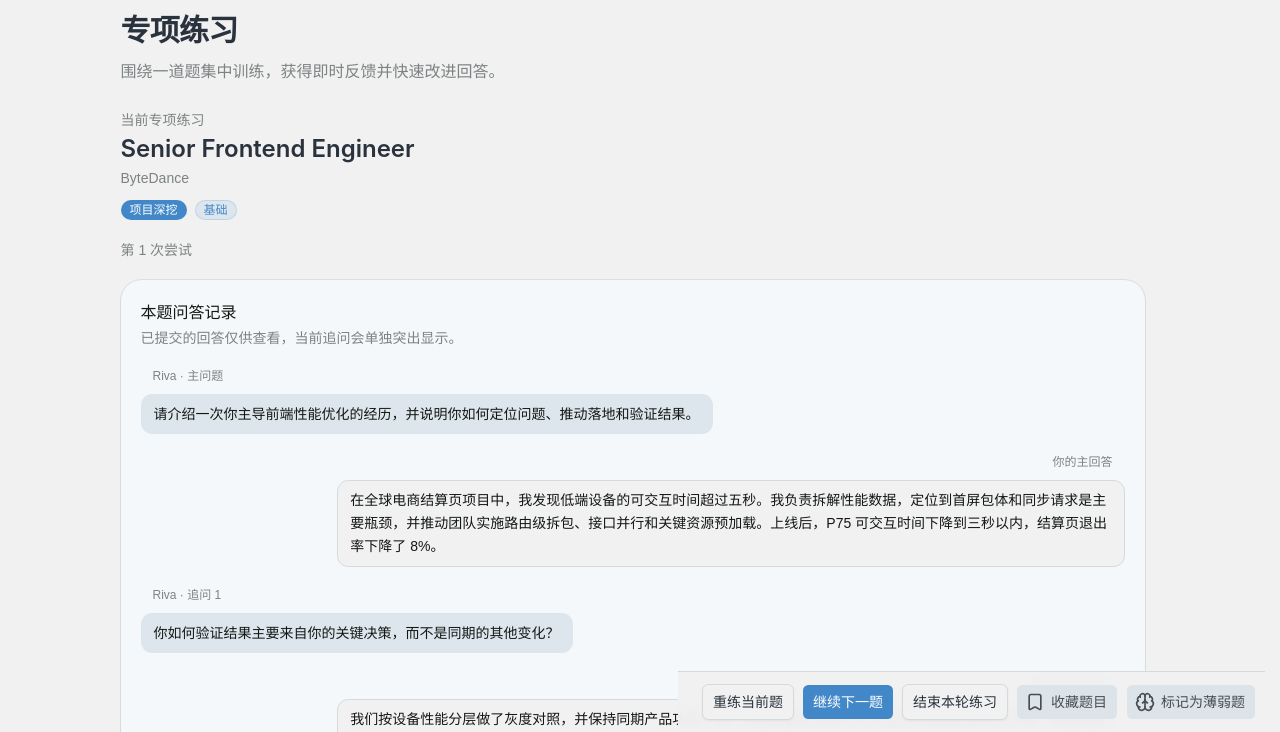
Scenario: PracticeView › shows safe review-action errors without exposing service details
Step 1. Click the button "重练当前题" → (748,702), box x1=702 y1=684 x2=794 y2=720
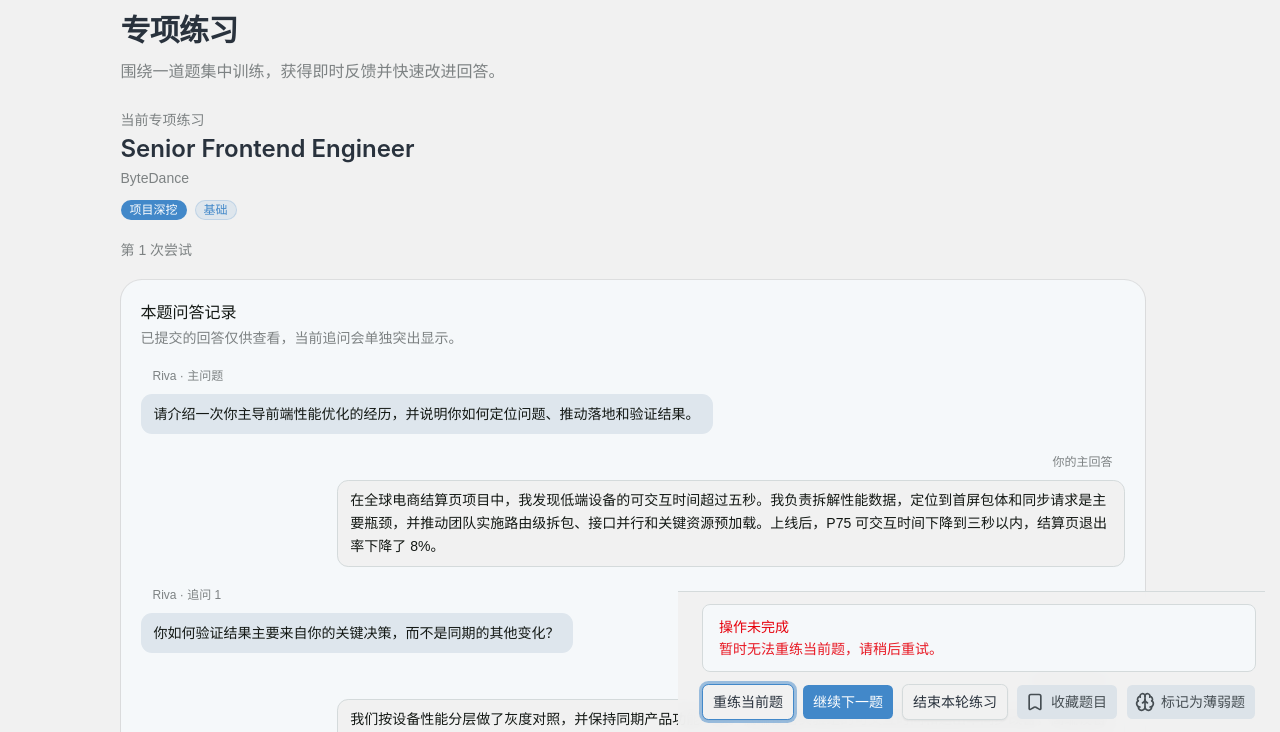
Expected: the message shows "暂时无法重练当前题，请稍后重试。", x1=719 y1=641 x2=943 y2=657
